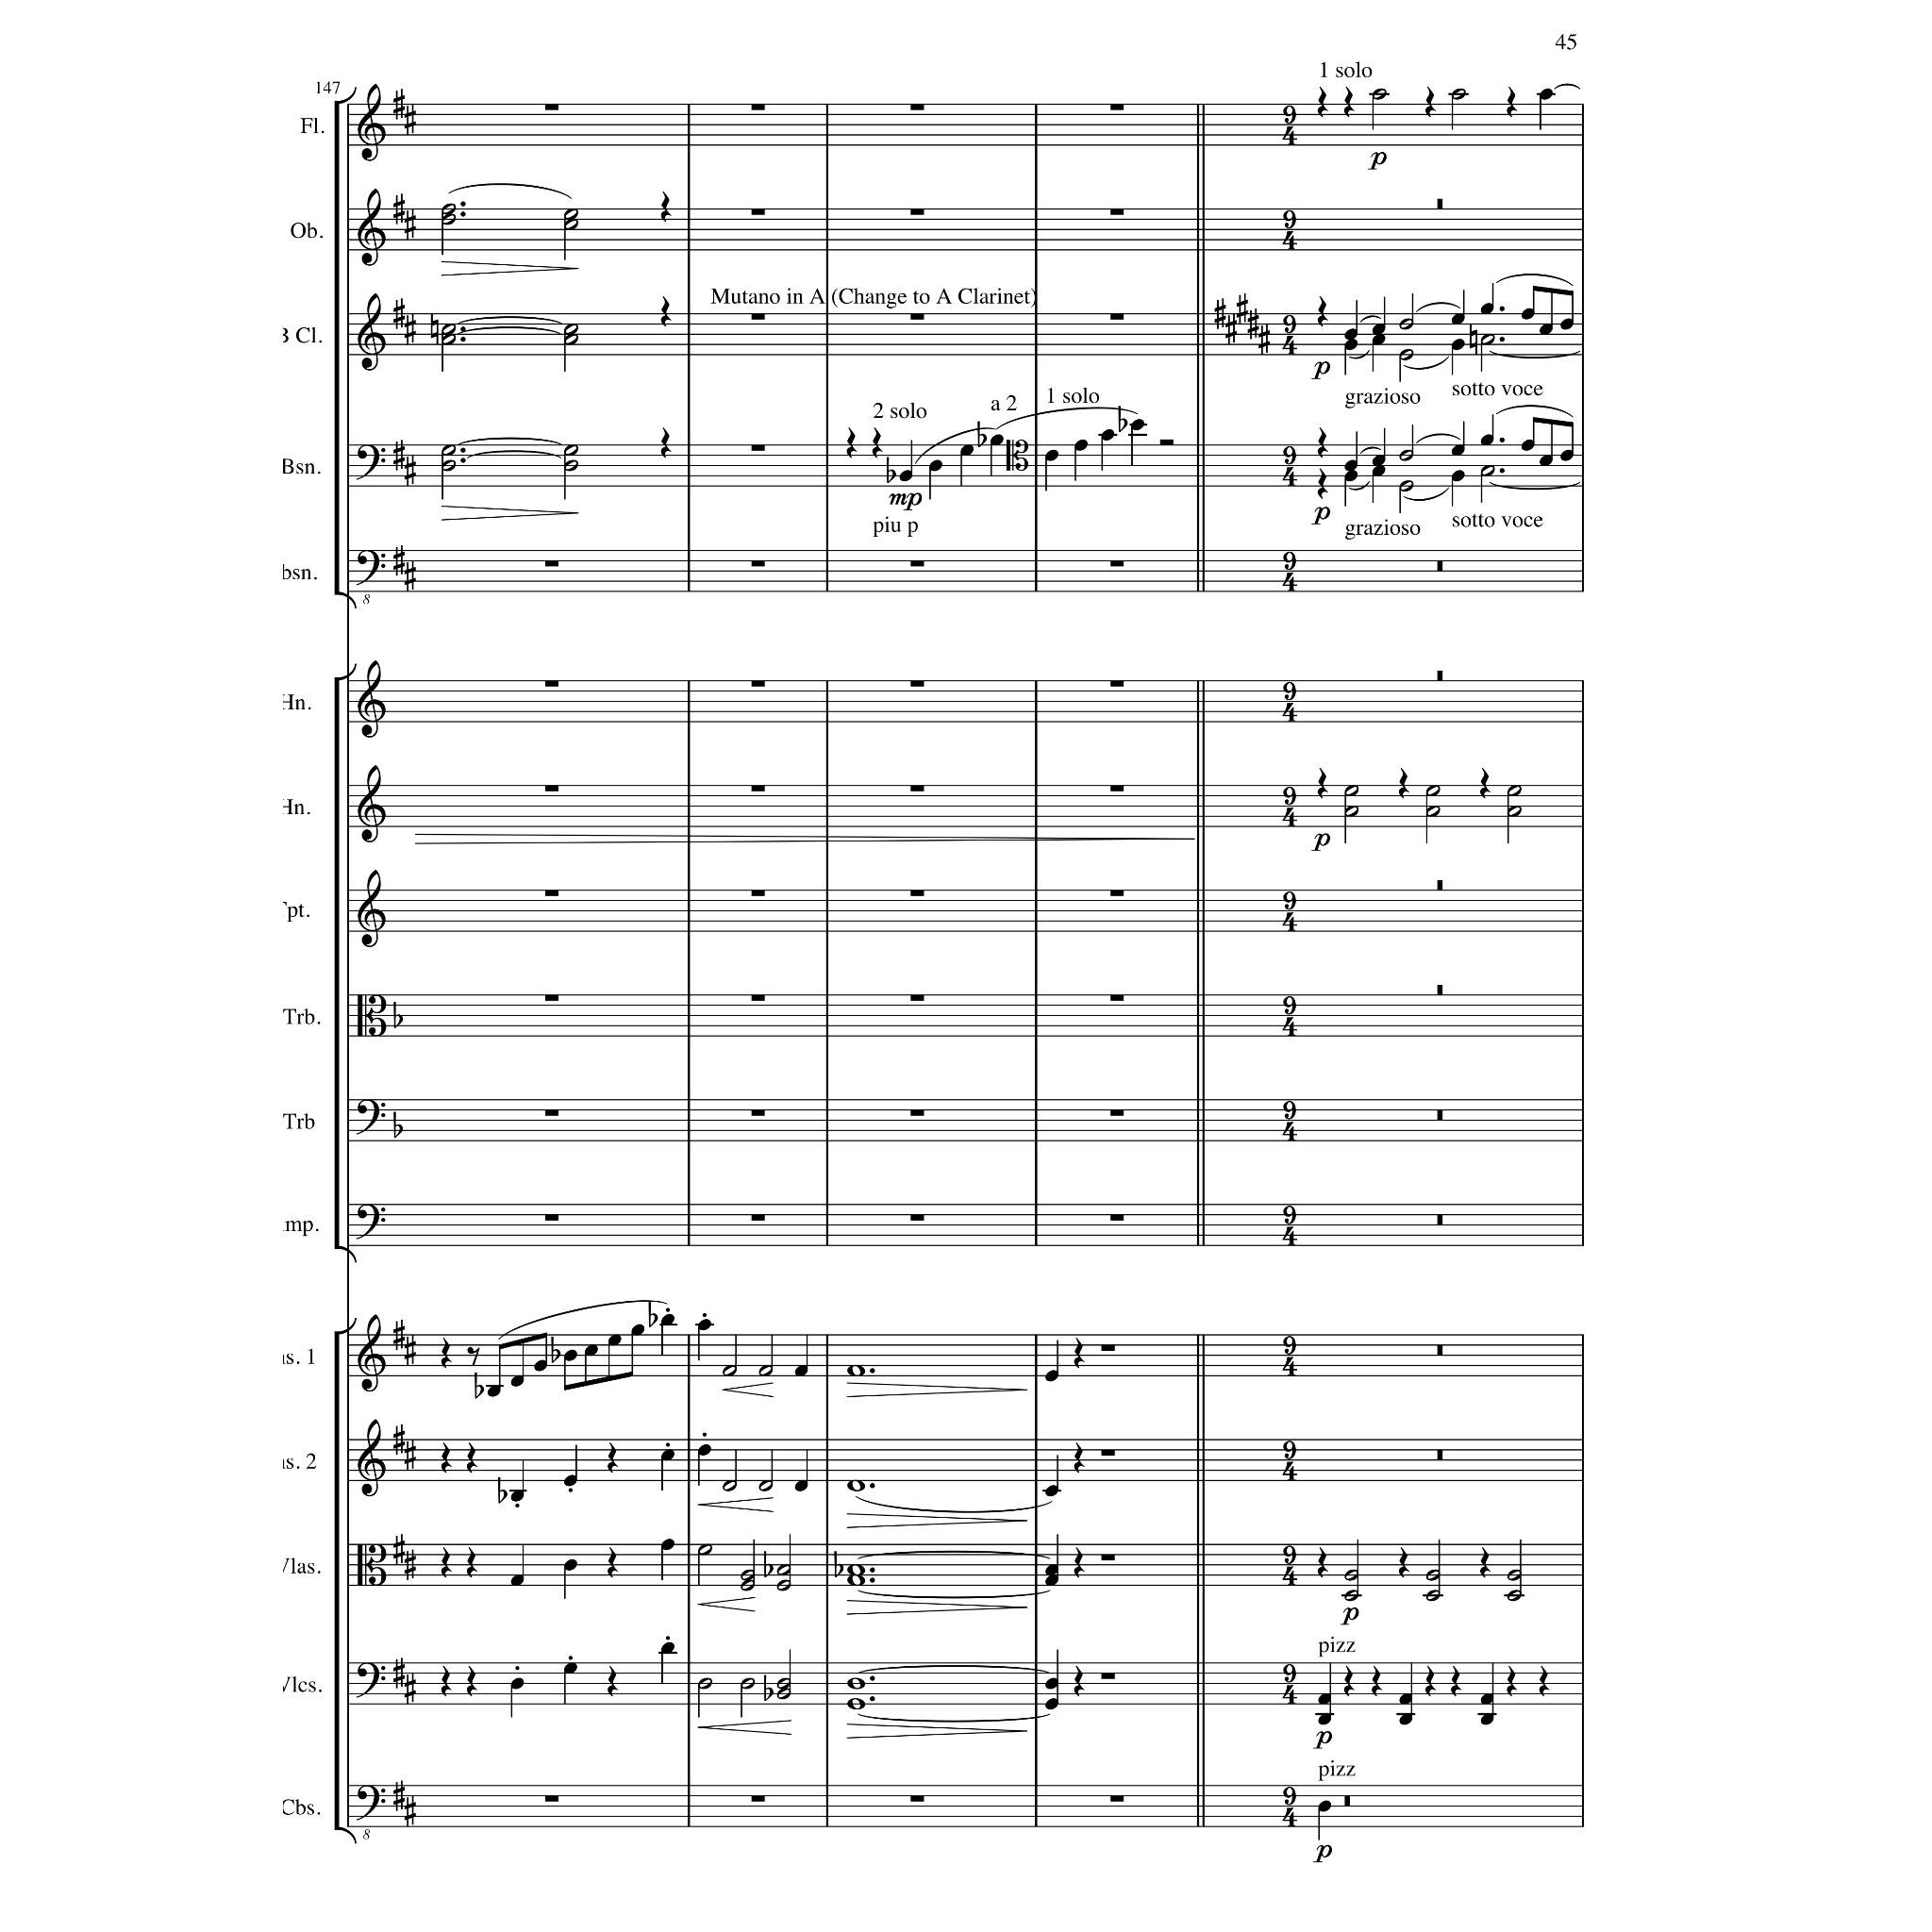fClef: (354, 550, 386, 586), (354, 444, 386, 479), (354, 1205, 386, 1240), (354, 1099, 386, 1134), (354, 1785, 386, 1821), (354, 1663, 386, 1698)
gClef: (357, 188, 386, 267), (357, 869, 386, 948), (357, 294, 386, 372), (357, 83, 386, 161), (357, 764, 386, 842), (357, 660, 386, 738), (357, 1419, 386, 1497), (357, 1315, 386, 1392)
noteheadBlack: (1345, 329, 1359, 341), (1345, 471, 1359, 483), (1345, 460, 1359, 472), (1345, 340, 1359, 352), (1398, 1693, 1412, 1706), (1371, 455, 1385, 467), (1371, 333, 1385, 345), (1371, 324, 1385, 336), (1371, 465, 1385, 478), (1131, 419, 1145, 432), (1100, 428, 1115, 441), (1318, 1693, 1332, 1706), (1074, 439, 1088, 451), (1318, 1801, 1332, 1813), (1451, 471, 1465, 483), (1451, 444, 1465, 456), (1451, 340, 1465, 352), (1451, 313, 1465, 326), (1479, 1693, 1493, 1706), (1479, 303, 1493, 315), (1537, 455, 1552, 467), (1537, 324, 1552, 336), (1537, 88, 1552, 101), (1520, 439, 1534, 451), (1520, 308, 1534, 320), (1559, 449, 1573, 462), (1559, 318, 1573, 331), (534, 1361, 548, 1373), (563, 1476, 577, 1488), (563, 1663, 577, 1675), (563, 1559, 577, 1571), (563, 1350, 577, 1362), (510, 1677, 524, 1690), (510, 1575, 524, 1587), (510, 1490, 524, 1502), (510, 1375, 524, 1387), (487, 1385, 501, 1398), (660, 1642, 674, 1654), (660, 1537, 674, 1550), (660, 1449, 674, 1461), (660, 1313, 674, 1325), (630, 1323, 644, 1336), (607, 1334, 621, 1346), (584, 1345, 598, 1357), (961, 444, 975, 456), (927, 460, 941, 472), (899, 471, 913, 483), (1044, 1564, 1058, 1576), (1044, 1677, 1058, 1690), (1044, 1698, 1058, 1711), (1044, 1575, 1058, 1587), (1044, 1369, 1058, 1382), (1044, 449, 1058, 462), (697, 1444, 711, 1456), (697, 1320, 711, 1332), (794, 1364, 809, 1376), (794, 1479, 809, 1491), (1398, 1714, 1412, 1725), (1318, 1714, 1332, 1725), (1479, 1714, 1493, 1725), (1479, 435, 1493, 446), (989, 435, 1003, 446), (1044, 1486, 1058, 1497)
noteheadHalf: (1398, 318, 1414, 331), (1398, 449, 1414, 462), (1343, 1591, 1359, 1603), (1343, 786, 1359, 798), (1343, 805, 1359, 817), (1398, 481, 1414, 494), (1343, 1569, 1359, 1582), (1451, 88, 1467, 101), (1479, 333, 1495, 345), (1479, 465, 1495, 478), (1424, 1569, 1440, 1582), (1424, 1591, 1440, 1603), (1424, 786, 1440, 798), (1424, 805, 1440, 817), (563, 444, 579, 456), (563, 460, 579, 472), (563, 324, 579, 336), (563, 333, 579, 345), (563, 209, 579, 221), (563, 218, 579, 230), (441, 324, 456, 336), (441, 444, 456, 456), (441, 460, 456, 472), (441, 333, 456, 345), (441, 203, 456, 216), (441, 214, 456, 226), (697, 1545, 713, 1557), (697, 1677, 713, 1690), (775, 1677, 791, 1690), (775, 1688, 791, 1700), (775, 1564, 791, 1576), (775, 1580, 791, 1592), (757, 1479, 773, 1491), (757, 1364, 773, 1376), (740, 1677, 755, 1690), (740, 1569, 755, 1582), (740, 1580, 755, 1592), (1371, 88, 1385, 101), (1507, 786, 1522, 798), (1507, 1569, 1522, 1582), (1507, 1591, 1522, 1603), (1507, 805, 1522, 817), (722, 1364, 736, 1376), (722, 1479, 736, 1491), (1398, 350, 1414, 361)
noteheadWhole: (846, 1364, 865, 1376), (846, 1479, 865, 1491), (846, 1677, 865, 1690), (846, 1575, 865, 1587), (846, 1698, 865, 1711), (846, 1564, 865, 1576)
rest8th: (465, 1346, 479, 1366)
restDoubleWhole: (1345, 1796, 1350, 1806)
restHalf: (1159, 439, 1173, 446)
restQuarter: (1398, 766, 1410, 800), (1398, 1546, 1410, 1580), (1316, 295, 1329, 329), (1316, 1546, 1329, 1580), (1316, 766, 1329, 800), (465, 1546, 478, 1580), (1343, 1665, 1355, 1697), (1316, 428, 1329, 460), (1424, 1665, 1437, 1697), (1537, 1665, 1550, 1697), (465, 1665, 478, 1697), (465, 1442, 478, 1474), (1343, 87, 1355, 117), (1316, 87, 1329, 117), (1316, 469, 1329, 499), (1424, 87, 1437, 117), (1074, 1546, 1085, 1580), (1479, 1546, 1490, 1580), (1479, 766, 1490, 800), (660, 295, 671, 329), (607, 1546, 617, 1580), (441, 1546, 451, 1580), (1371, 1665, 1382, 1697), (1074, 1442, 1085, 1474), (1074, 1665, 1085, 1697), (1451, 1665, 1461, 1697), (1506, 1665, 1516, 1697), (660, 428, 671, 460), (660, 191, 671, 223), (607, 1665, 617, 1697), (607, 1442, 617, 1474), (441, 1665, 451, 1697), (441, 1442, 451, 1474), (872, 428, 883, 460), (846, 428, 856, 460), (1074, 1338, 1085, 1368), (1506, 87, 1516, 117), (441, 1338, 451, 1368)
restWhole: (1100, 1449, 1115, 1456), (1100, 1345, 1115, 1352), (1100, 1553, 1115, 1560), (1109, 890, 1123, 897), (1109, 994, 1123, 1001), (1109, 1109, 1123, 1116), (1109, 1214, 1123, 1221), (1109, 1796, 1123, 1803), (1109, 786, 1123, 793), (750, 786, 764, 793), (750, 890, 764, 897), (750, 994, 764, 1001), (750, 1109, 764, 1116), (750, 1214, 764, 1221), (750, 1796, 764, 1803), (909, 104, 924, 111), (909, 209, 924, 216), (750, 104, 764, 111), (750, 209, 764, 216), (750, 313, 764, 320), (750, 444, 764, 451), (750, 561, 764, 568), (909, 1796, 924, 1803), (1109, 104, 1123, 111), (1109, 209, 1123, 216), (1109, 313, 1123, 320), (1109, 561, 1123, 568), (909, 313, 924, 320), (909, 561, 924, 568), (909, 786, 924, 793), (909, 890, 924, 897), (909, 994, 924, 1001), (909, 1109, 924, 1116), (909, 1214, 924, 1221), (543, 1796, 557, 1803), (543, 1214, 557, 1221), (543, 1109, 557, 1116), (543, 994, 557, 1001), (543, 890, 557, 897), (543, 786, 557, 793), (543, 561, 557, 568), (543, 104, 557, 111), (1437, 879, 1444, 892), (1437, 1214, 1444, 1226), (1437, 671, 1444, 683), (1100, 1674, 1115, 1679), (750, 681, 764, 686), (1109, 681, 1123, 686), (909, 681, 924, 686), (1437, 1451, 1444, 1461), (1437, 1109, 1444, 1120), (1437, 985, 1444, 996), (1437, 561, 1444, 571), (1437, 200, 1444, 211), (543, 681, 557, 686), (1437, 1346, 1444, 1355)
